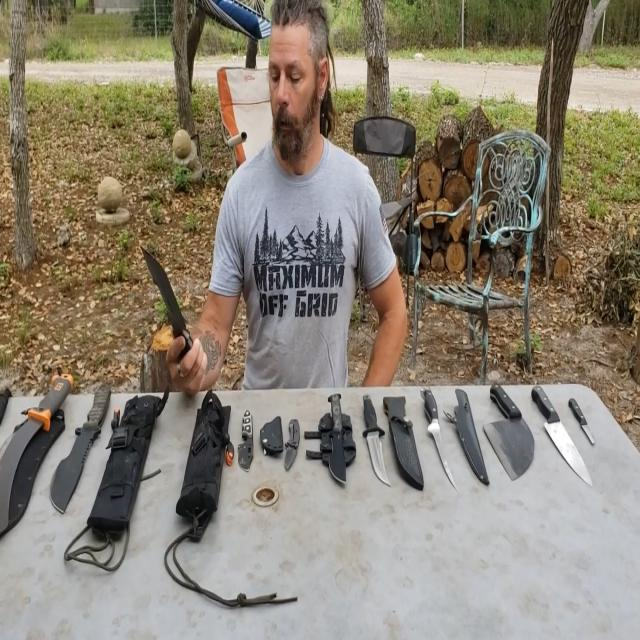knife: (0, 360, 71, 542), (45, 371, 118, 524), (142, 236, 213, 376), (524, 377, 595, 497), (478, 376, 538, 484), (317, 376, 354, 498), (359, 382, 395, 499), (426, 388, 458, 490), (562, 383, 608, 452), (280, 398, 313, 482), (234, 401, 265, 484)
